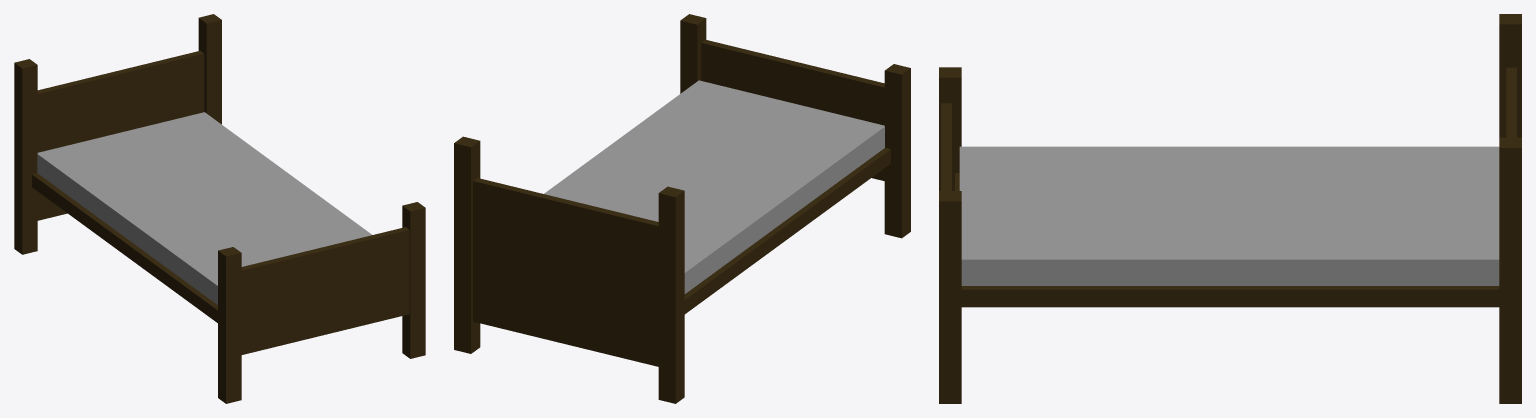
The model's file is plainbed.fbx.
The picture shows the model from 3 angles, left to right: view 1: azimuth 30°, elevation 25°; view 2: azimuth 150°, elevation 25°; view 3: azimuth 270°, elevation 25°; orthographic projection. The views are drawn at different scales.
Parts seen in each view (by area): view 1: Cube.007, Cube.008, Cube.006, Cube.002, Cube.005, Cube.001, Cube.004, Cube.003; view 2: Cube.007, Cube.006, Cube.008, Cube.002, Cube.003, Cube.005, Cube.001, Cube.004; view 3: Cube.007, Cube.001, Cube.003, Cube.004, Cube.002, Cube.005, Cube.008, Cube.006.
Part boxes in pixels (left/top/right/bottom): Cube.007: left=37, top=112, right=371, bottom=304; Cube.008: left=241, top=227, right=409, bottom=354; Cube.006: left=37, top=51, right=204, bottom=220; Cube.002: left=14, top=59, right=37, bottom=254; Cube.005: left=218, top=247, right=241, bottom=403; Cube.001: left=32, top=173, right=217, bottom=322; Cube.004: left=402, top=202, right=425, bottom=358; Cube.003: left=198, top=14, right=221, bottom=124; Cube.007: left=544, top=80, right=884, bottom=293; Cube.006: left=473, top=178, right=658, bottom=366; Cube.008: left=701, top=39, right=884, bottom=180; Cube.002: left=658, top=186, right=684, bottom=403; Cube.003: left=454, top=136, right=480, bottom=353; Cube.005: left=884, top=64, right=910, bottom=238; Cube.001: left=684, top=148, right=890, bottom=314; Cube.004: left=680, top=14, right=706, bottom=93; Cube.007: left=959, top=146, right=1499, bottom=285; Cube.001: left=955, top=173, right=1499, bottom=307; Cube.003: left=1499, top=137, right=1521, bottom=403; Cube.004: left=939, top=191, right=961, bottom=403; Cube.002: left=1499, top=14, right=1521, bottom=137; Cube.005: left=939, top=67, right=961, bottom=190; Cube.008: left=941, top=103, right=951, bottom=190; Cube.006: left=1506, top=67, right=1516, bottom=137.
Size of the model in its own units: 586 by 522 by 1077.
